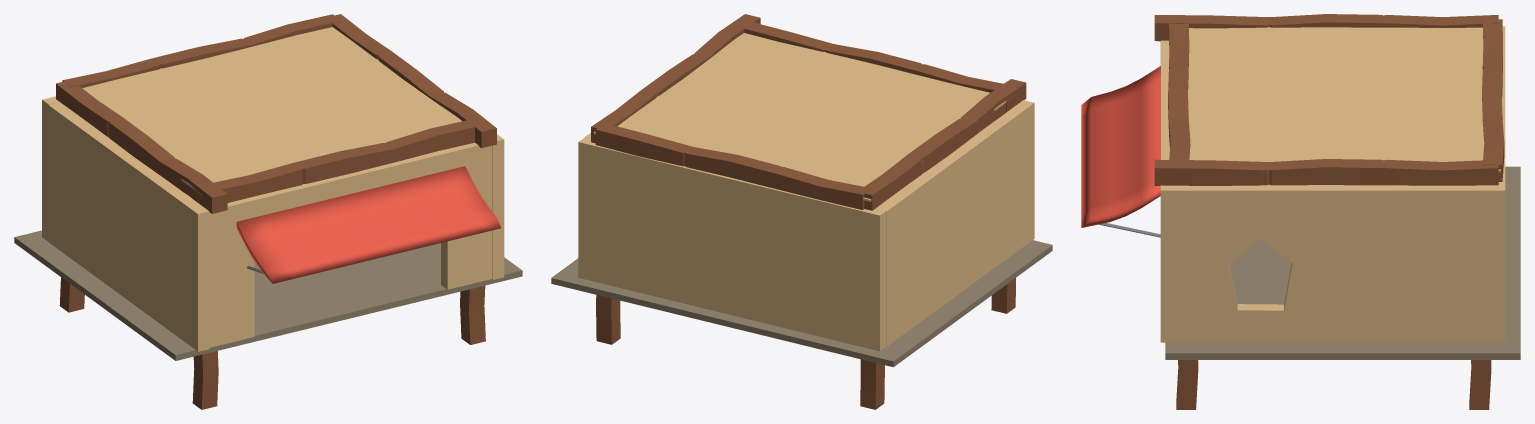
Rendered from Estructura.fbx.
The picture shows the model from 3 angles, left to right: view 1: azimuth 30°, elevation 25°; view 2: azimuth 150°, elevation 25°; view 3: azimuth 270°, elevation 25°; orthographic projection. The views are drawn at different scales.
Parts seen in each view (by area): view 1: Cube.032, Cube.002, Cube.004, Suelo.001, Walls.001, Cube.031, Cube.028, Walls.002, Cube.030, Cube.029, Walls, Cube (+4 smaller); view 2: Cube.001, Cube.032, Cube.002, Suelo.001, Cube.030, Cube.028, Cube.031, Cube.029, Cube.012, Cube.011, Cube.015; view 3: Cube, Cube.032, Suelo.001, Cube.004, Cube.029, Cube.028, Cube.030, Cube.001, Cube.031, Cube.011, Cube.014, Walls.001.
Boxes of the visible parts, x1,y1,x2,y2 form: Cube.032: [82, 27, 461, 188]; Cube.002: [48, 102, 209, 351]; Cube.004: [236, 166, 500, 283]; Suelo.001: [14, 230, 522, 360]; Walls.001: [209, 143, 492, 252]; Cube.031: [213, 120, 474, 202]; Cube.028: [56, 79, 227, 213]; Walls.002: [209, 244, 254, 347]; Cube.030: [62, 14, 341, 87]; Cube.029: [332, 14, 496, 148]; Walls: [441, 183, 492, 289]; Cube: [492, 134, 504, 279]; Cube.001: [578, 137, 886, 351]; Cube.032: [593, 33, 1006, 201]; Cube.002: [876, 100, 1034, 346]; Suelo.001: [551, 240, 1052, 367]; Cube.030: [595, 123, 871, 209]; Cube.028: [857, 79, 1026, 210]; Cube.031: [744, 22, 1003, 92]; Cube.029: [591, 14, 760, 143]; Cube.012: [860, 359, 884, 409]; Cube.011: [596, 295, 620, 344]; Cube.015: [991, 95, 1015, 313]; Cube: [1160, 184, 1490, 342]; Cube.032: [1188, 27, 1500, 172]; Suelo.001: [1165, 166, 1520, 359]; Cube.004: [1081, 66, 1160, 227]; Cube.029: [1154, 159, 1498, 185]; Cube.028: [1154, 14, 1498, 41]; Cube.030: [1482, 19, 1504, 181]; Cube.001: [1490, 26, 1505, 342]; Cube.031: [1168, 23, 1190, 159]; Cube.011: [1469, 360, 1491, 409]; Cube.014: [1176, 360, 1198, 409]; Walls.001: [1161, 40, 1169, 159].
Size of the model in its own units: 1360 by 826 by 1354.
